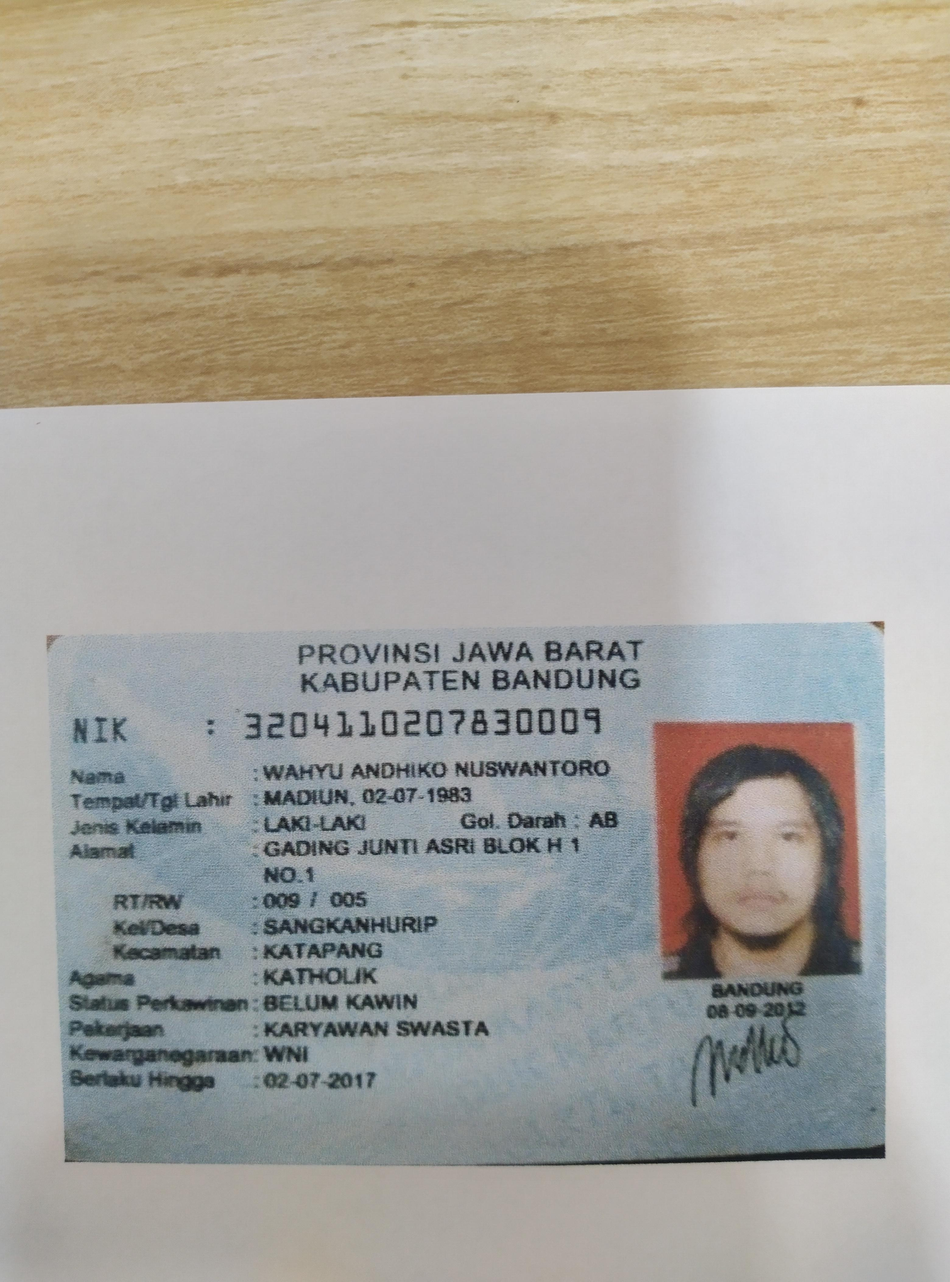ktp: (47, 621, 889, 1159)
